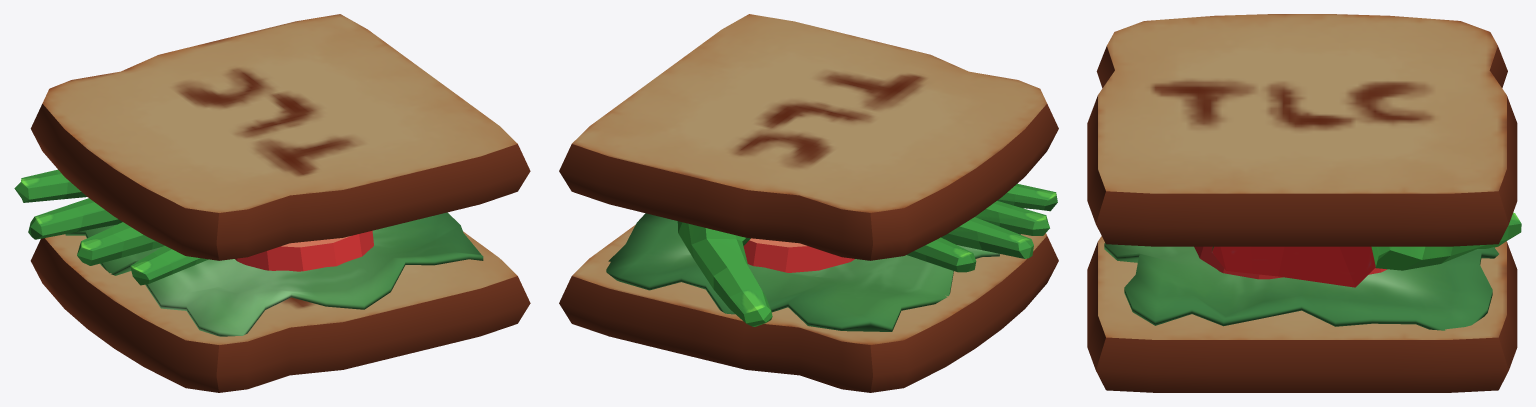
The model's file is recipe_KnuckleSandwhich_v02.fbx.
3 renders of one model, left to right at view 1: azimuth 30°, elevation 25°; view 2: azimuth 150°, elevation 25°; view 3: azimuth 270°, elevation 25°, orthographic. The views are drawn at different scales.
Parts seen in each view (by area): view 1: ING_Bread1, ING_Bread, TOP_Lettuce, retopoHand, TOP_Tomato; view 2: ING_Bread1, ING_Bread, TOP_Lettuce, retopoHand, TOP_Tomato; view 3: ING_Bread1, ING_Bread, TOP_Lettuce, retopoHand, TOP_Tomato.
Part boxes in pixels (x1,y1,x2,y2): ING_Bread1: [30, 14, 530, 260]; ING_Bread: [30, 231, 530, 392]; TOP_Lettuce: [65, 212, 483, 336]; retopoHand: [14, 169, 208, 285]; TOP_Tomato: [235, 230, 373, 271]; ING_Bread1: [559, 14, 1058, 260]; ING_Bread: [559, 224, 1058, 392]; TOP_Lettuce: [606, 213, 1020, 331]; retopoHand: [677, 183, 1057, 326]; TOP_Tomato: [743, 238, 854, 272]; ING_Bread1: [1087, 14, 1517, 246]; ING_Bread: [1087, 236, 1517, 392]; TOP_Lettuce: [1104, 243, 1498, 330]; retopoHand: [1211, 212, 1521, 287]; TOP_Tomato: [1194, 246, 1386, 279].
Size of the model in its own units: 37.51 by 16.2 by 32.01.
